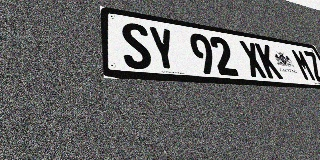2: (208, 35, 239, 76)
9: (188, 32, 219, 75)
K: (254, 43, 283, 79)
M: (290, 49, 317, 82)
S: (120, 21, 153, 70)
X: (238, 40, 268, 78)
Y: (147, 26, 180, 72)
Z: (302, 51, 320, 82)
